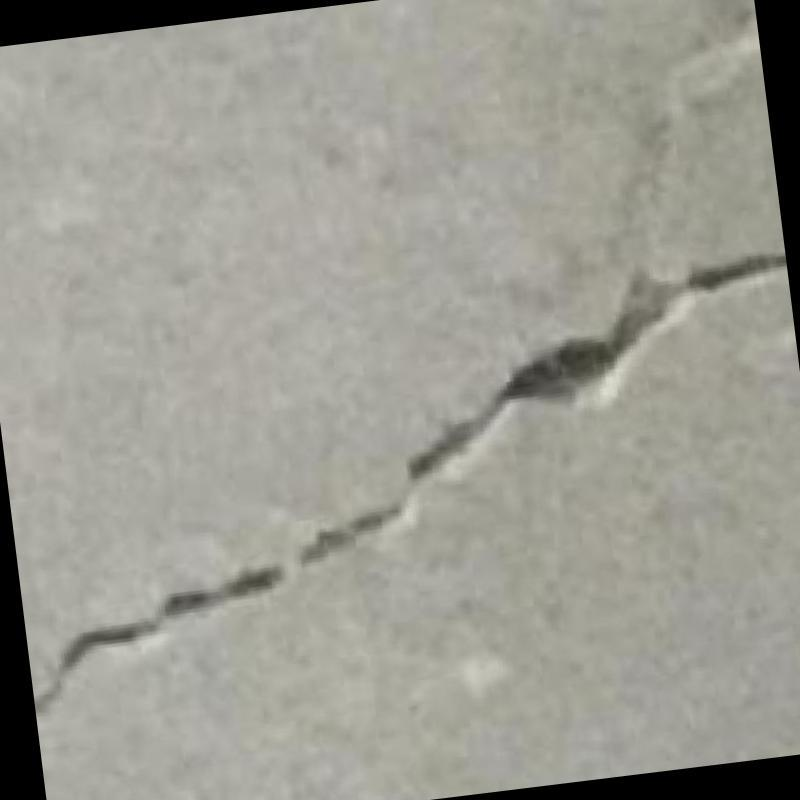pothole: (33, 253, 785, 713)
